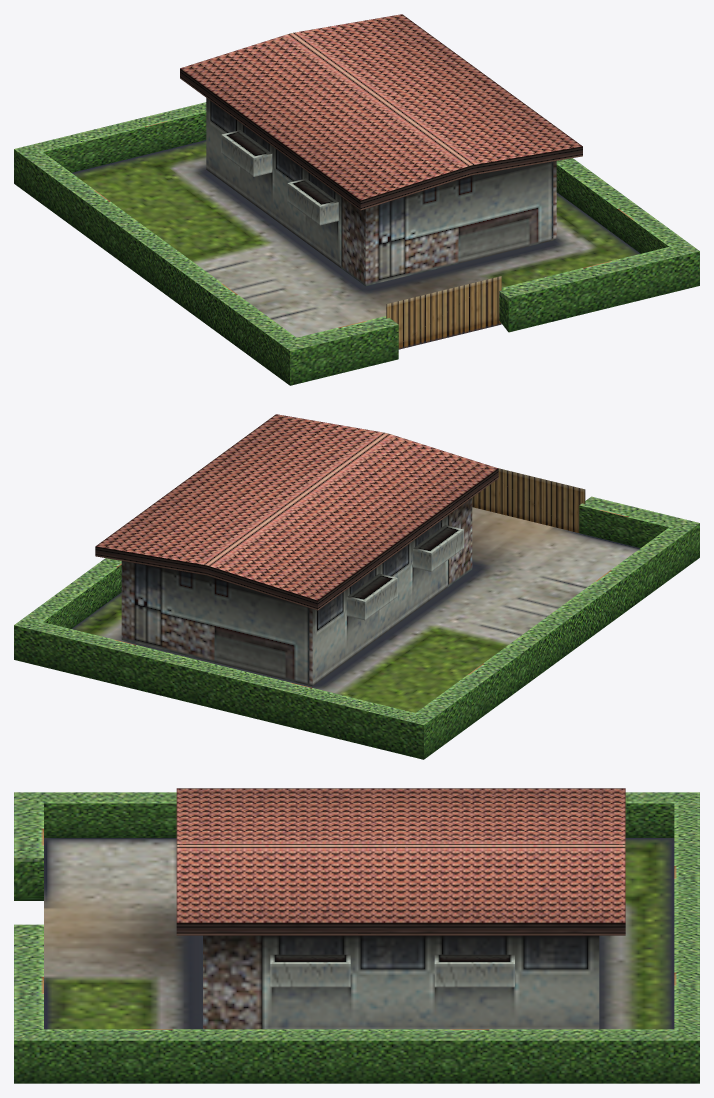
Rendered from GenericHouse03.fbx.
3 renders of one model, top to bottom at view 1: azimuth 30°, elevation 25°; view 2: azimuth 150°, elevation 25°; view 3: azimuth 270°, elevation 25°, orthographic. The views are drawn at different scales.
Parts seen in each view (by area): view 1: GenericHouse03A2; view 2: GenericHouse03A2; view 3: GenericHouse03A2.
Part boxes in pixels (left/top/right/bottom): GenericHouse03A2: left=14, top=14, right=699, bottom=385; GenericHouse03A2: left=14, top=414, right=699, bottom=759; GenericHouse03A2: left=14, top=788, right=699, bottom=1083.
Bounding box in the file's own units: 6.59 × 1.72 × 7.69.
